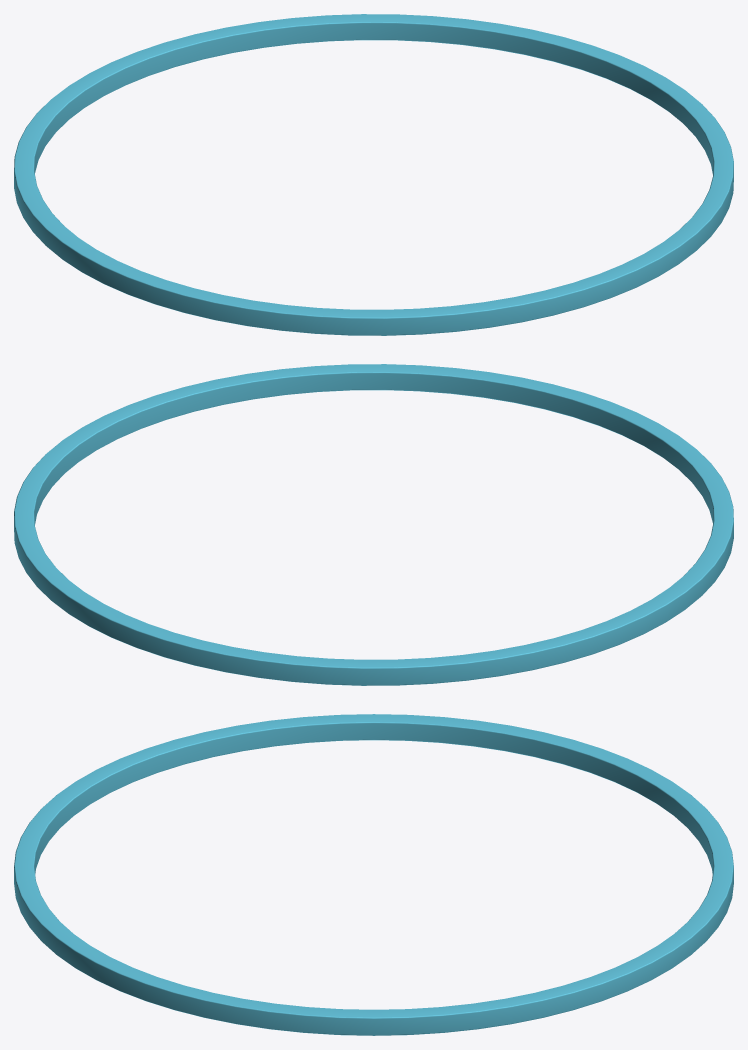
The picture shows the model from 3 angles, top to bottom: view 1: azimuth 30°, elevation 25°; view 2: azimuth 150°, elevation 25°; view 3: azimuth 270°, elevation 25°; orthographic projection.
Parts seen in each view (by area): view 1: seal_body; view 2: seal_body; view 3: seal_body.
Boxes of the visible parts, x1,y1,x2,y2 form: seal_body: (14,14,733,335); seal_body: (14,364,733,685); seal_body: (14,714,733,1035).
Size of the model in its own units: 0.2014 by 0.0057 by 0.2014.
